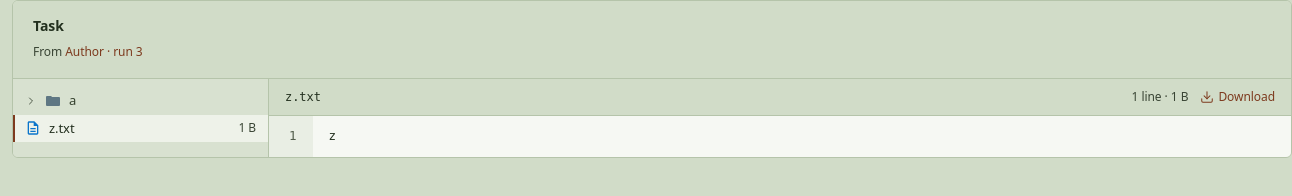
Test: the files view › lists a file listed only by its name and size, and opens another
The image size is (1292, 196).
Expected: the heading "z.txt" is shown, [285, 90, 321, 104]
Step 1. Click the button "a" → [140, 101], box [13, 87, 268, 114]
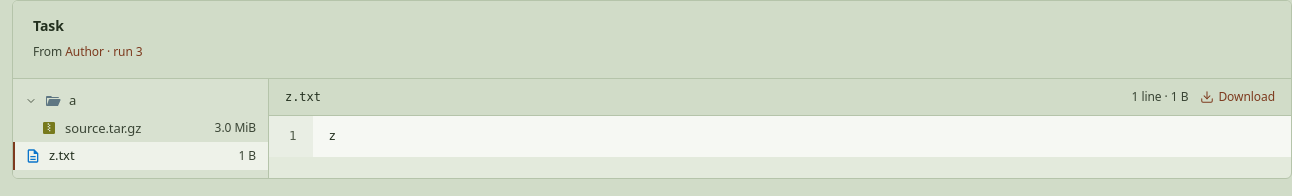
Now the text "source.tar.gz" reads "source.tar.gz 3.0 MiB", box [41, 118, 256, 136]
